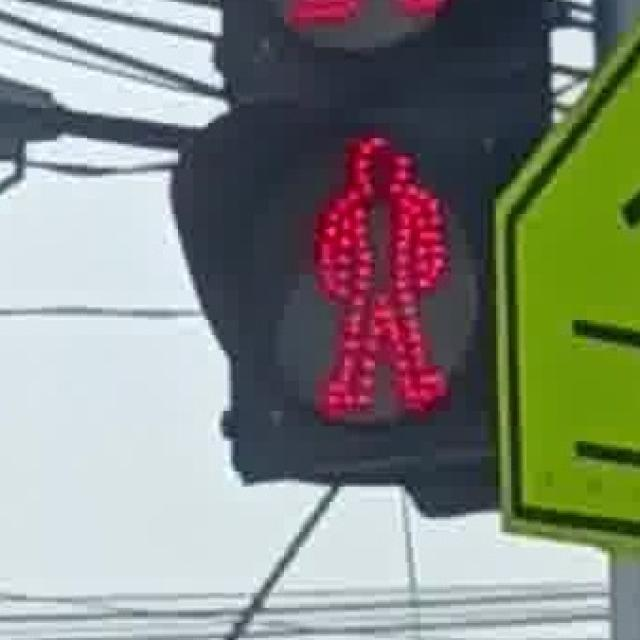red-crossing: (295, 106, 462, 430)
